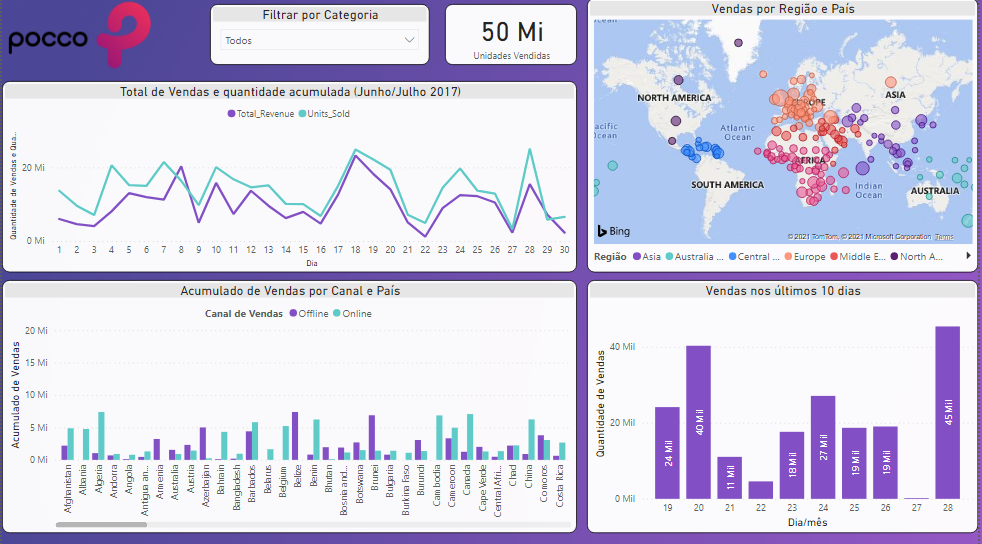

The page's visual inventory and layout, read from the dashboard file:
{"tool":"powerbi","page":{"name":"Página 1","canvas":[1280,720],"ordinal":0},"visuals":[{"type":"map","title":"Vendas por Região e País","fields":{"Category":["orders dim_country.Country"],"Series":["orders dim_region.Region"],"Size":["Sum(orders fato_vendas.Total_Revenue)"]},"box":[767.1,0,512.9,359.6],"z":0},{"type":"card","fields":{"Values":["Sum(orders fato_vendas.Units_Sold)"]},"box":[580.9,8.5,173.4,79.8],"z":1000},{"type":"clusteredColumnChart","title":"Vendas nos últimos 10 dias","fields":{"Category":["orders fato_vendas.Order_Date.Variation.Hierarquia de datas.Ano","orders fato_vendas.Order_Date.Variation.Hierarquia de datas.Mês","orders fato_vendas.Order_Date.Variation.Hierarquia de datas.Dia"],"Y":["Sum(orders fato_vendas.Units_Sold)"]},"box":[767.1,370.3,512.9,332],"z":2000},{"type":"lineChart","title":"Total de Vendas e quantidade acumulada (Junho/Julho 2017)","fields":{"Category":["orders fato_vendas.Order_Date.Variation.Hierarquia de datas.Ano","orders fato_vendas.Order_Date.Variation.Hierarquia de datas.Mês","orders fato_vendas.Order_Date.Variation.Hierarquia de datas.Dia"],"Y":["Sum(orders fato_vendas.Total_Revenue)"],"Y2":["Sum(orders fato_vendas.Units_Sold)"]},"box":[0,108.5,754.4,251.1],"z":3000},{"type":"clusteredColumnChart","title":"Acumulado de Vendas por Canal e País","fields":{"Category":["orders dim_country.Country","orders fato_vendas.Order_Date.Variation.Hierarquia de datas.Ano"],"Series":["orders dim_saleschannel.Sales_Channel"],"Y":["Sum(orders fato_vendas.Total_Revenue)"]},"box":[0,370.3,754.4,332],"z":4000},{"type":"image","box":[0,0,206.4,96.8],"z":5000},{"type":"slicer","title":"Filtrar por Categoria","fields":{"Values":["orders fato_vendas.Item_Type"]},"box":[272.4,8.5,288.3,79.8],"z":6000}]}

Visuals, with their boxes in screenshot pixels (x1, y1, x2, y2), scaled from the page's 1280x720 canvas onto the 982x544 screenshot:
"Vendas por Região e País" map: <box>589,0,981,272</box>
card - Sum(orders fato_vendas.Units_Sold): <box>446,6,579,67</box>
"Vendas nos últimos 10 dias" clusteredColumnChart: <box>589,280,981,531</box>
"Total de Vendas e quantidade acumulada (Junho/Julho 2017)" lineChart: <box>0,82,579,272</box>
"Acumulado de Vendas por Canal e País" clusteredColumnChart: <box>0,280,579,531</box>
image: <box>0,0,158,73</box>
"Filtrar por Categoria" slicer: <box>209,6,430,67</box>
